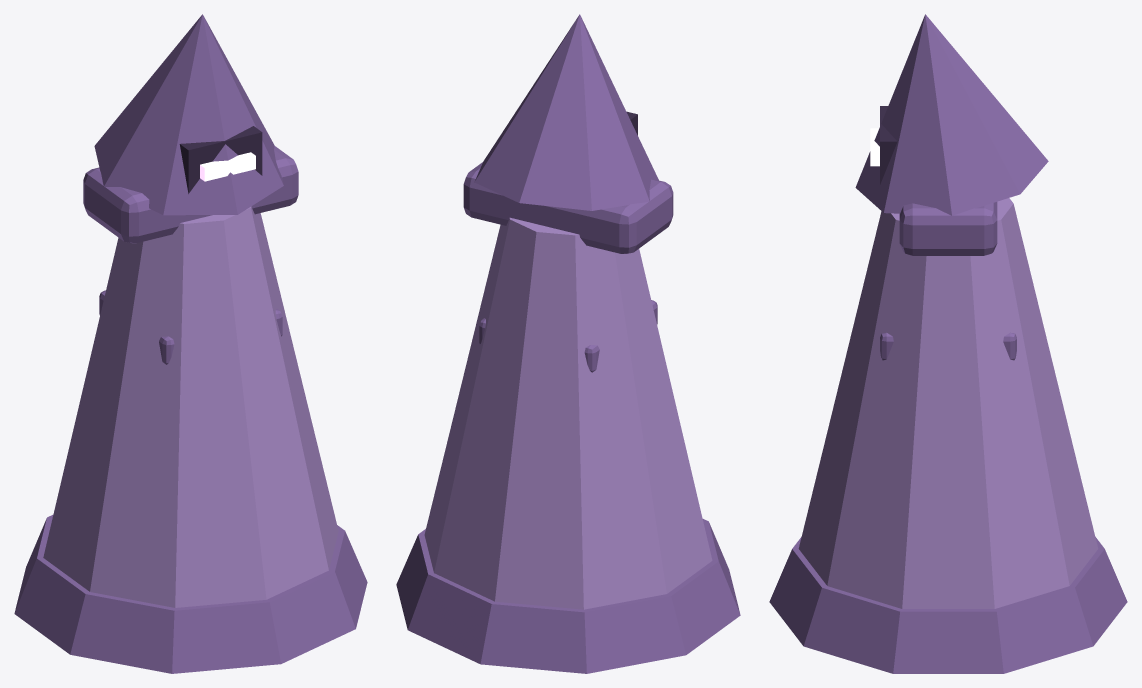
Rendered from enemy_caster.glb.
3 renders of one model, left to right at view 1: azimuth 30°, elevation 25°; view 2: azimuth 150°, elevation 25°; view 3: azimuth 270°, elevation 25°, orthographic. The views are drawn at different scales.
Visible parts, largest first — view 1: enemy_caster; view 2: enemy_caster; view 3: enemy_caster.
Boxes of the visible parts, left/top/right/bottom form: enemy_caster: left=14, top=14, right=367, bottom=673; enemy_caster: left=396, top=14, right=740, bottom=673; enemy_caster: left=769, top=14, right=1127, bottom=673.
Bounding box in the file's own units: 1.05 × 1.99 × 1.1.
